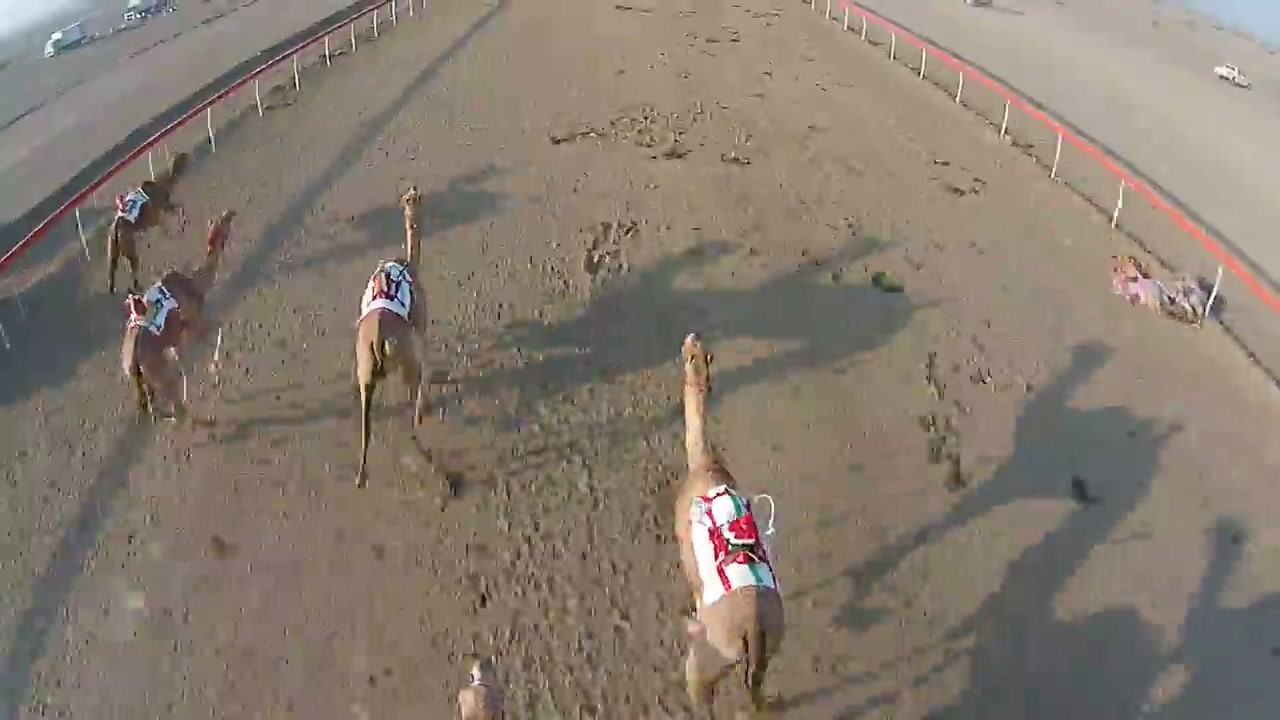animal_footprint: (486, 362, 629, 706)
